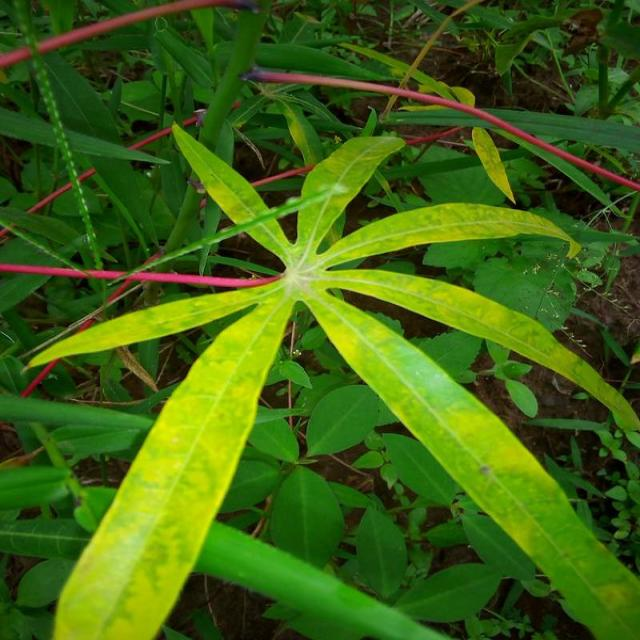cassava leaf: (28, 116, 638, 638)
